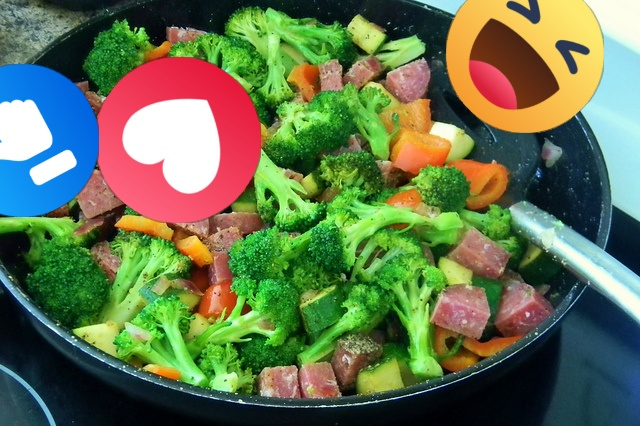haha: (446, 0, 604, 133)
like: (0, 64, 99, 217)
love: (95, 57, 261, 223)
